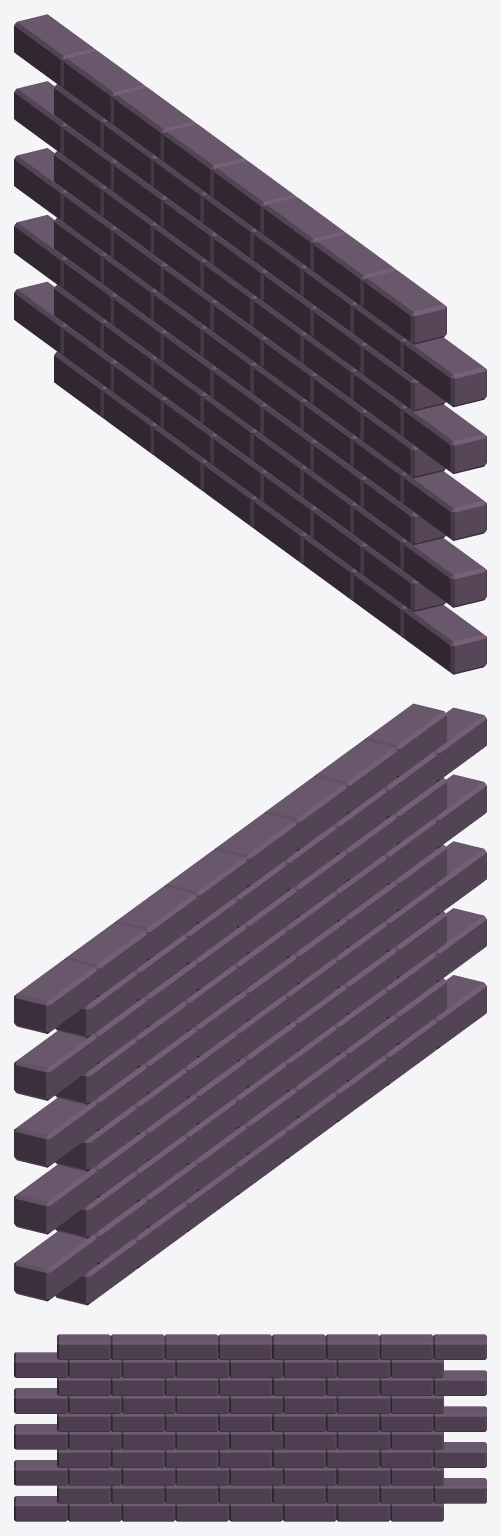
Rendered from wall3.fbx.
3 renders of one model, top to bottom at view 1: azimuth 30°, elevation 25°; view 2: azimuth 150°, elevation 25°; view 3: azimuth 270°, elevation 25°, orthographic. The views are drawn at different scales.
Visible parts, largest first — view 1: Cube; view 2: Cube; view 3: Cube.
Part boxes in pixels (<box>): Cube: <box>14,14,486,674</box>; Cube: <box>14,703,486,1305</box>; Cube: <box>14,1334,486,1521</box>.
Bounding box in the file's own units: 17.63 × 154 × 367.
